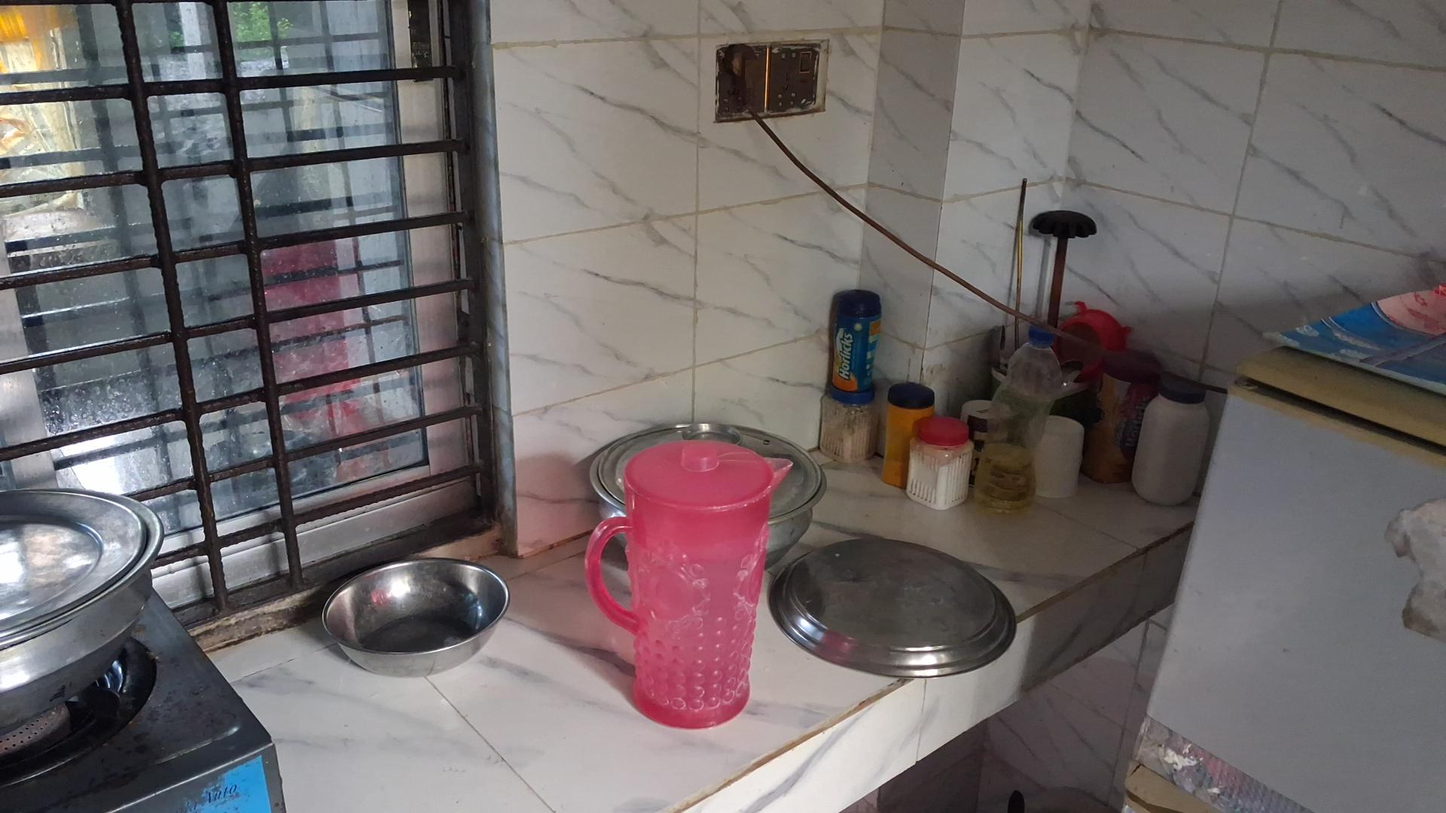Bottle: (981, 327, 1060, 509)
Bowl: (321, 558, 511, 678)
Cup: (1033, 415, 1085, 498)
Jar: (1139, 372, 1212, 504), (905, 413, 974, 504), (821, 291, 883, 389), (821, 384, 881, 465)
Jug: (583, 437, 776, 730)
Plate: (769, 537, 1016, 672)
Pot: (0, 481, 158, 709)
